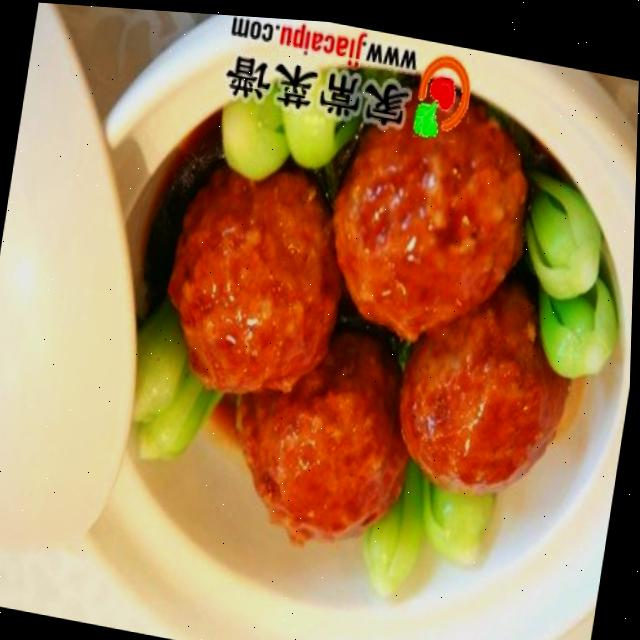猪肉菜式: (39, 3, 640, 640)
